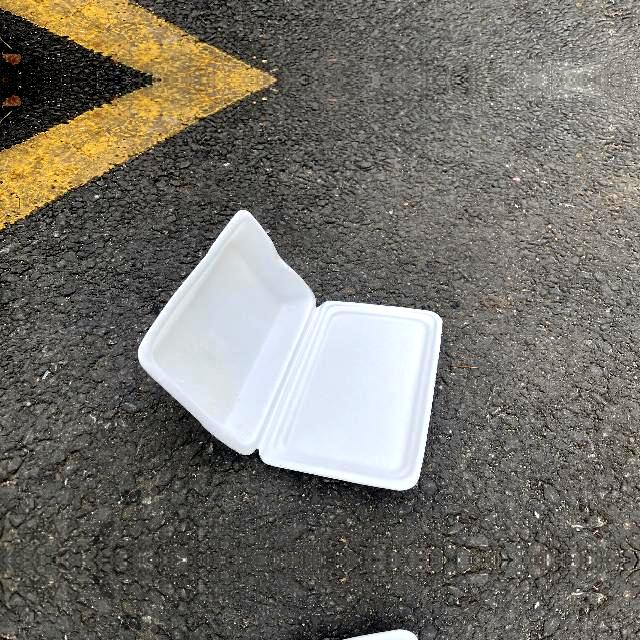Styrofoam: (138, 210, 444, 492), (138, 210, 443, 490)
